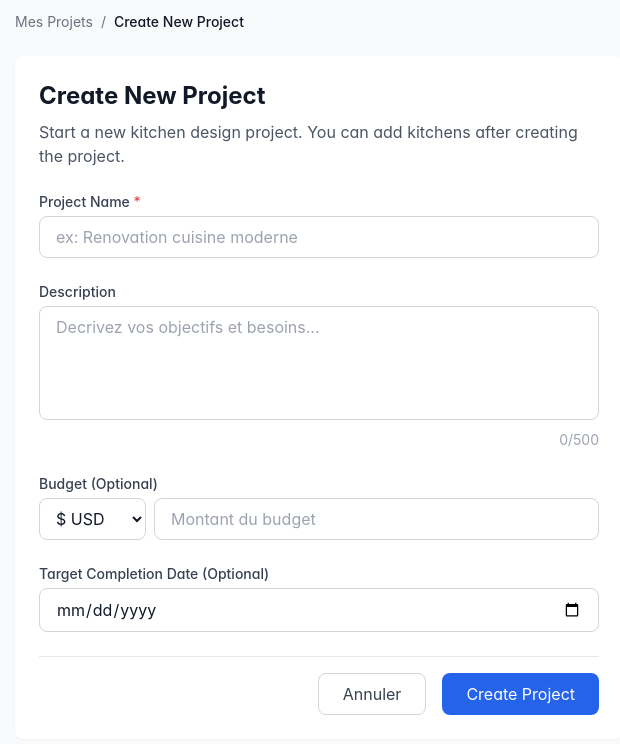
Scenario: CreateProject › Form Submission › should show error alert when API returns error
This screenshot has width=620, height=744.
Type "Test Project" into the field labelled "Project Name *" at (319, 237), box [39,216,599,258]
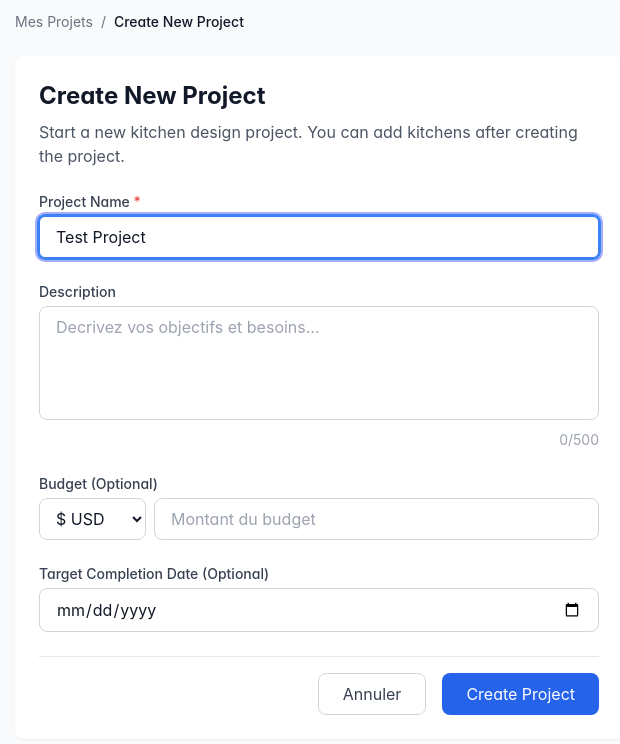
Click the button "Create Project" at (521, 694), box [442,673,599,715]
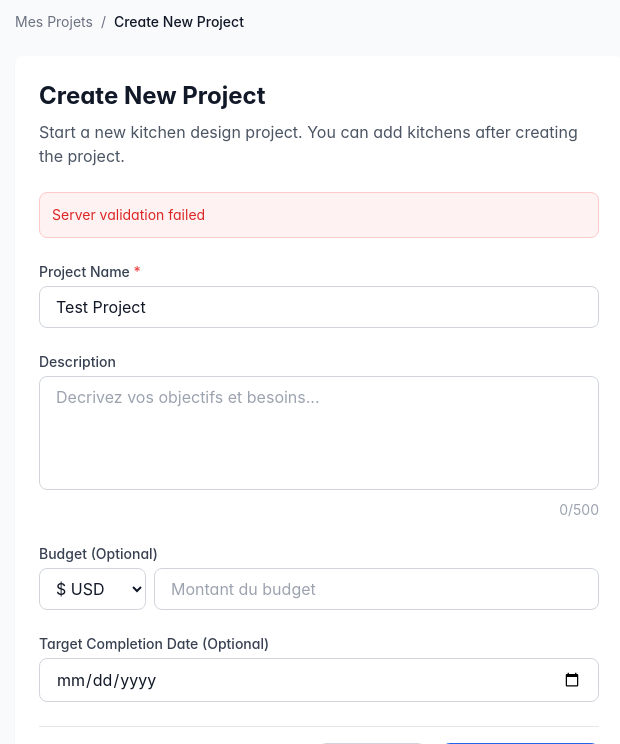
Result: the message "Server validation failed" is shown at [39,192,599,238]
Result: the text "Server validation failed" is shown at [52,206,205,223]
